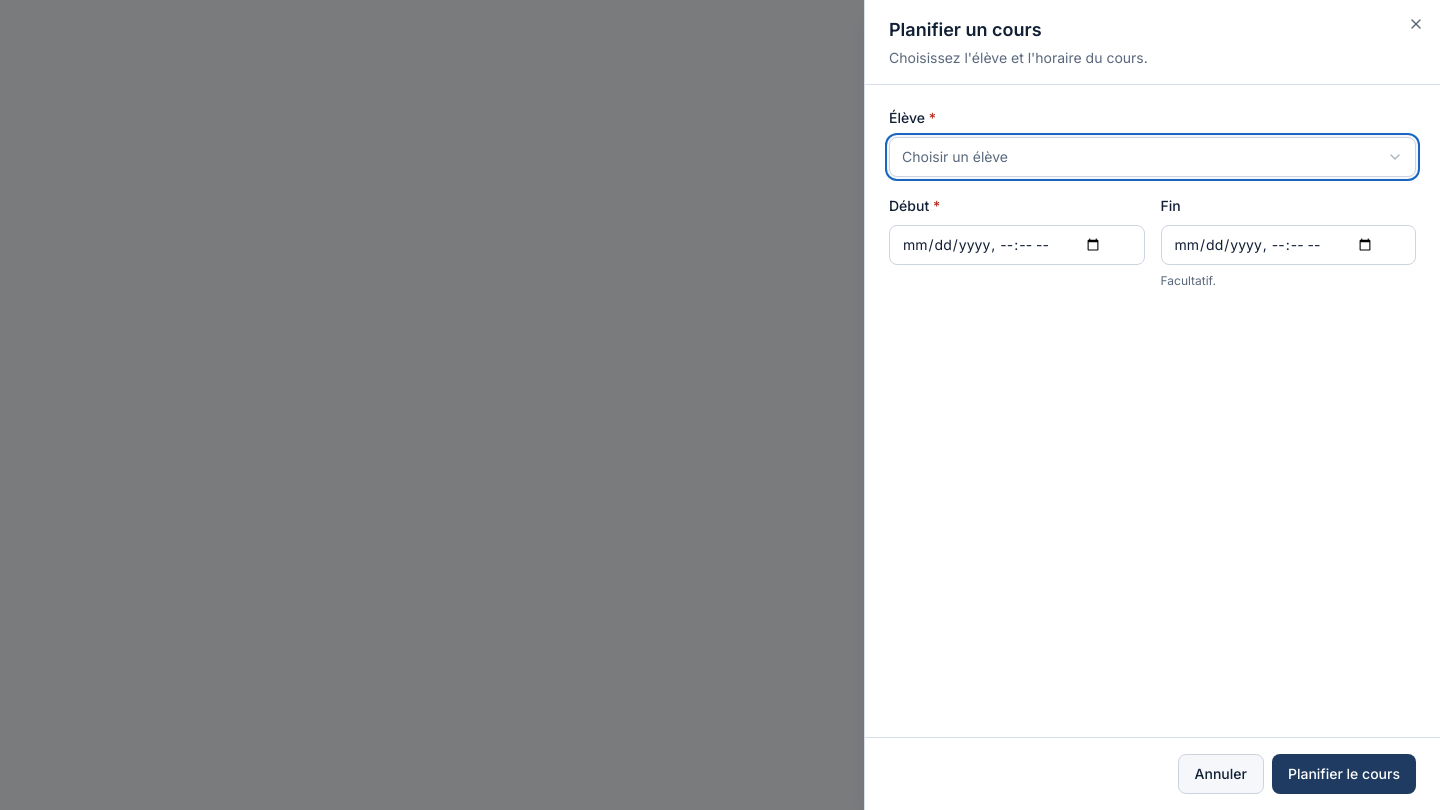
Test case: CourseFormDialog › explique sous chaque champ ce qui manque, sans rien envoyer
This screenshot has width=1440, height=810.
Click the button "Planifier le cours": {"x": 1344, "y": 774} x1=1272 y1=754 x2=1416 y2=794
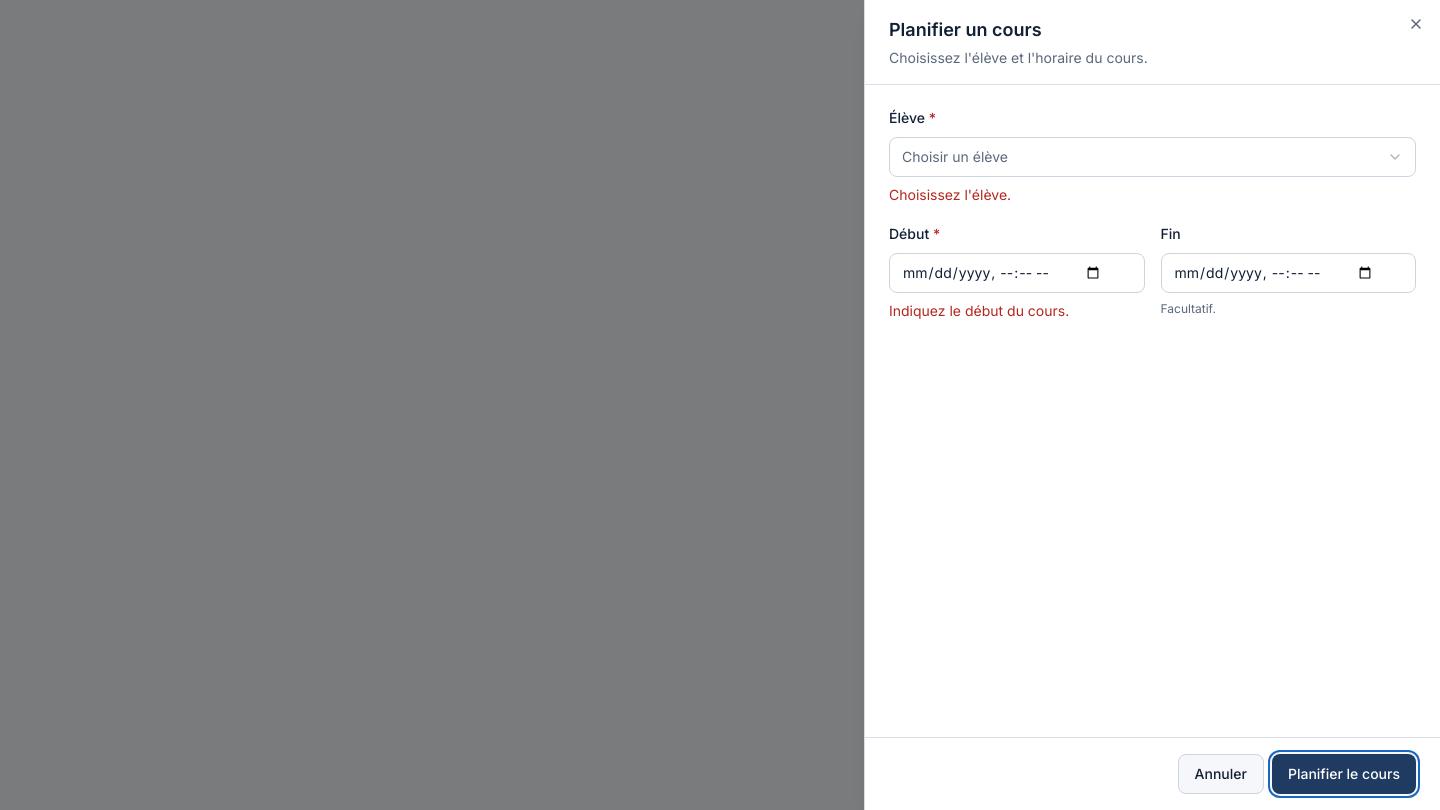
Expected: the text "Choisissez l'élève." is shown, x1=889 y1=186 x2=1011 y2=203
Expected: the text "Indiquez le début du cours." is shown, x1=889 y1=302 x2=1069 y2=319
